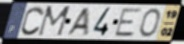4: (91, 7, 112, 39)
A: (64, 7, 91, 37)
C: (20, 6, 46, 37)
E: (113, 8, 144, 38)
M: (36, 5, 73, 38)
O: (138, 7, 162, 38)
